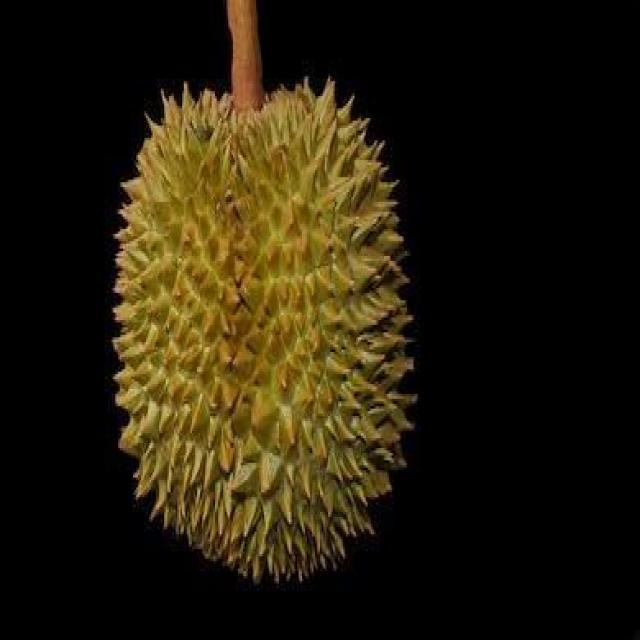mature: (115, 82, 412, 581)
